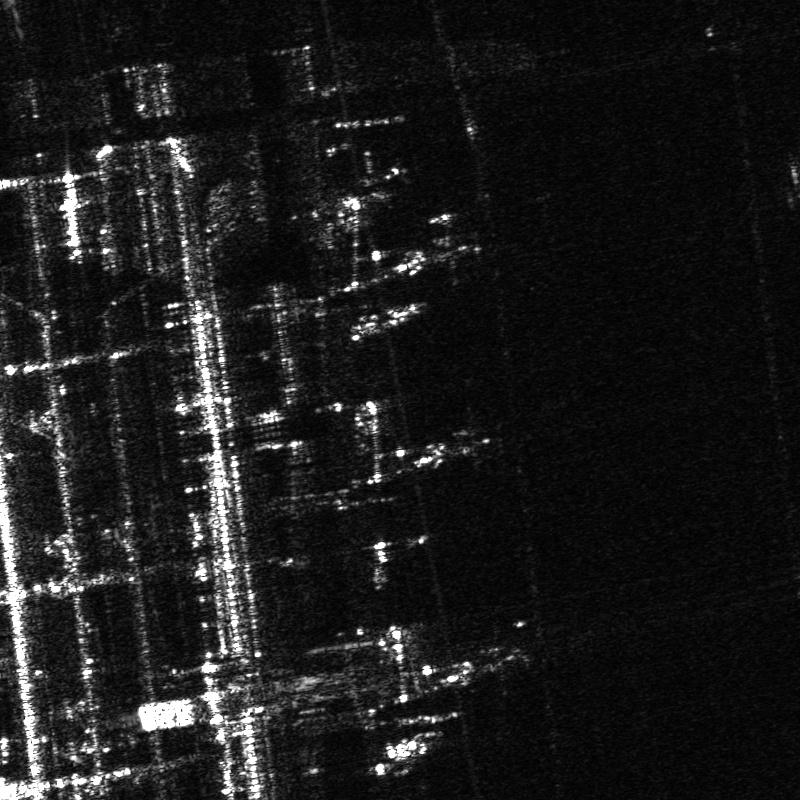Boeing737: (352, 150, 410, 206)
